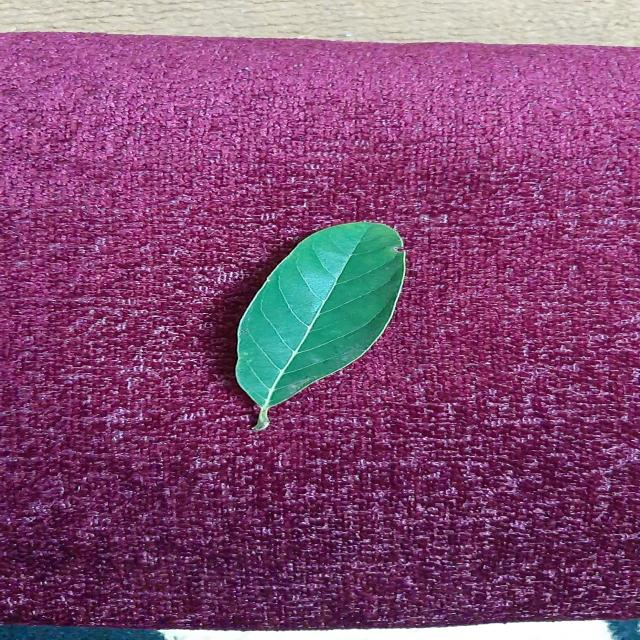seethaphala: (236, 222, 404, 430)
